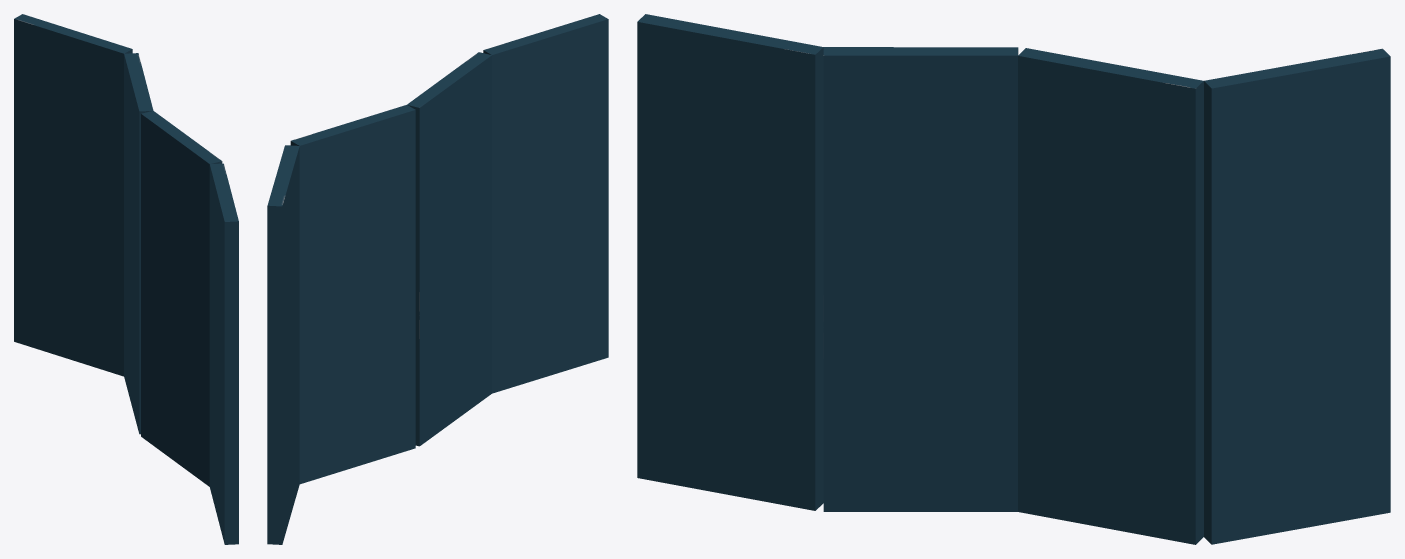
File: FloorMatUp(Textured).fbx
3 renders of one model, left to right at view 1: azimuth 30°, elevation 25°; view 2: azimuth 150°, elevation 25°; view 3: azimuth 270°, elevation 25°, orthographic. The views are drawn at different scales.
Parts seen in each view (by area): view 1: Cube; view 2: Cube; view 3: Cube.
Boxes of the visible parts, x1=… form: Cube: x1=14, y1=14, x2=238, y2=544; Cube: x1=267, y1=14, x2=608, y2=544; Cube: x1=637, y1=14, x2=1390, y2=544.
Size of the model in its own units: 641 by 1824 by 2729.
Materials: 1 (1 with a texture image).
